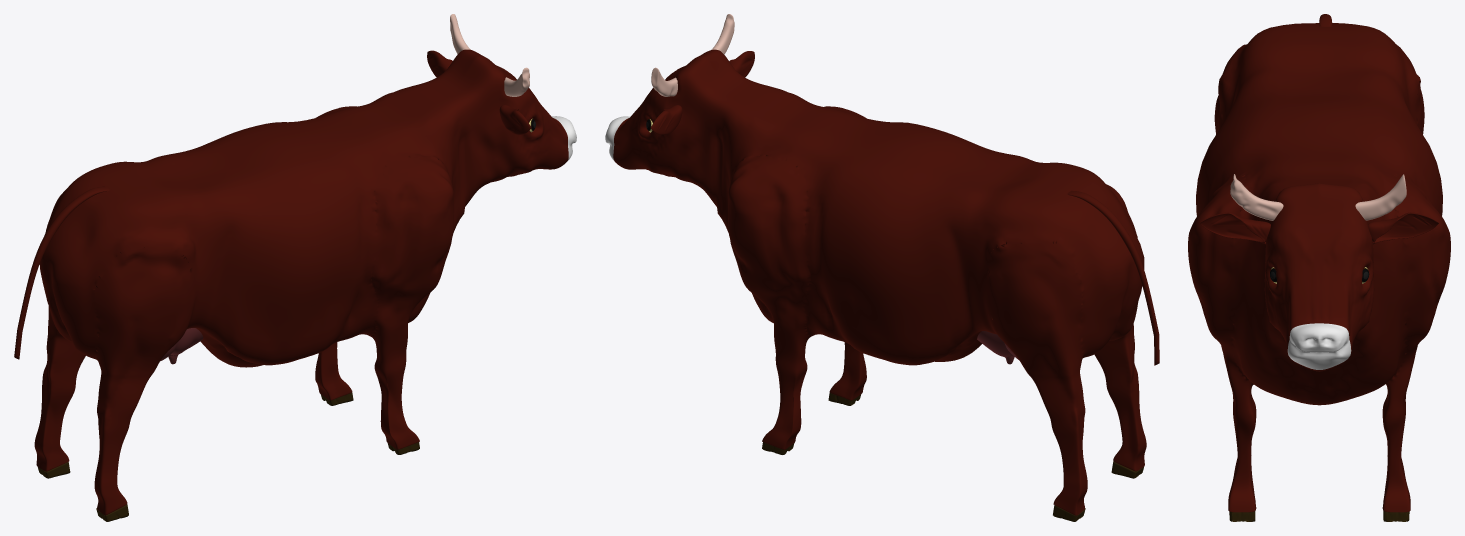
The model's file is cow.obj.
3 views of the same model, side by side, from view 1: azimuth 30°, elevation 25°; view 2: azimuth 150°, elevation 25°; view 3: azimuth 270°, elevation 25° (orthographic). The views are drawn at different scales.
Parts seen in each view (by area): view 1: cow, horn; view 2: cow, horn; view 3: cow, horn, nail.004.
Boxes of the visible parts, x1,y1,x2,y2 form: cow: (14,49,576,515); horn: (450,14,529,96); cow: (605,49,1159,515); horn: (651,14,734,96); cow: (1188,14,1450,512); horn: (1230,174,1406,220); nail.004: (1229,511,1409,521).
Bounding box in the file's own units: 4.48 × 2.75 × 1.6.
